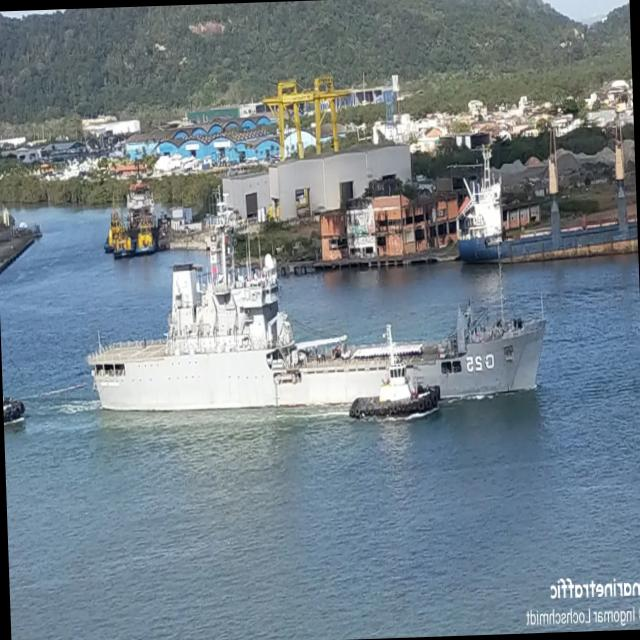Military: (87, 194, 546, 417)
Tug: (349, 350, 440, 418), (113, 218, 134, 256), (135, 222, 156, 252)
